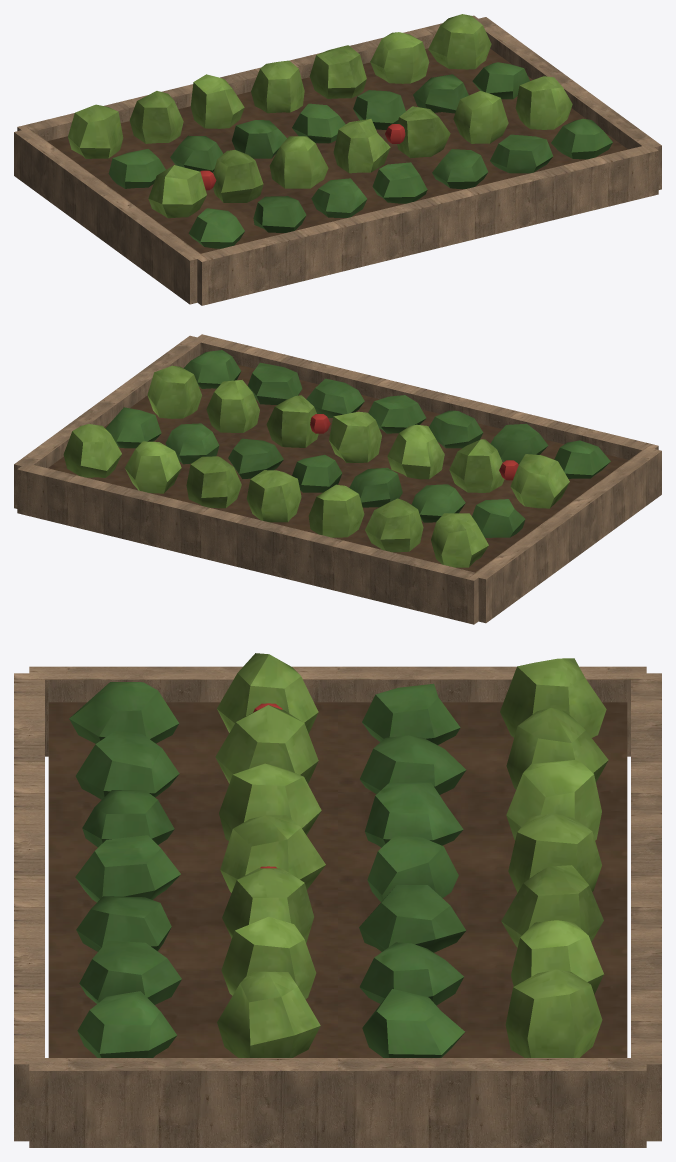
The model's file is decor_garden-bed_t1.glb.
3 renders of one model, top to bottom at view 1: azimuth 30°, elevation 25°; view 2: azimuth 150°, elevation 25°; view 3: azimuth 270°, elevation 25°, orthographic. The views are drawn at different scales.
Parts seen in each view (by area): view 1: wood, leaf, leaf_dark, earth.001, cloth_red; view 2: wood, leaf, leaf_dark, earth.001, cloth_red; view 3: wood, earth.001, leaf, leaf_dark.
Boxes of the visible parts, <box> form: wood: <box>14,15,661,305</box>; leaf: <box>68,14,572,218</box>; leaf_dark: <box>108,62,612,248</box>; earth.001: <box>47,48,627,253</box>; cloth_red: <box>200,124,405,190</box>; wood: <box>14,334,661,624</box>; leaf: <box>63,365,569,567</box>; leaf_dark: <box>105,350,610,537</box>; earth.001: <box>48,364,628,572</box>; cloth_red: <box>310,414,518,480</box>; wood: <box>14,666,661,1147</box>; earth.001: <box>48,702,627,1057</box>; leaf: <box>215,653,608,1057</box>; leaf_dark: <box>69,682,466,1057</box>.
Size of the model in its own units: 2.48 by 0.389 by 1.68.
5 materials, 5 textured.
